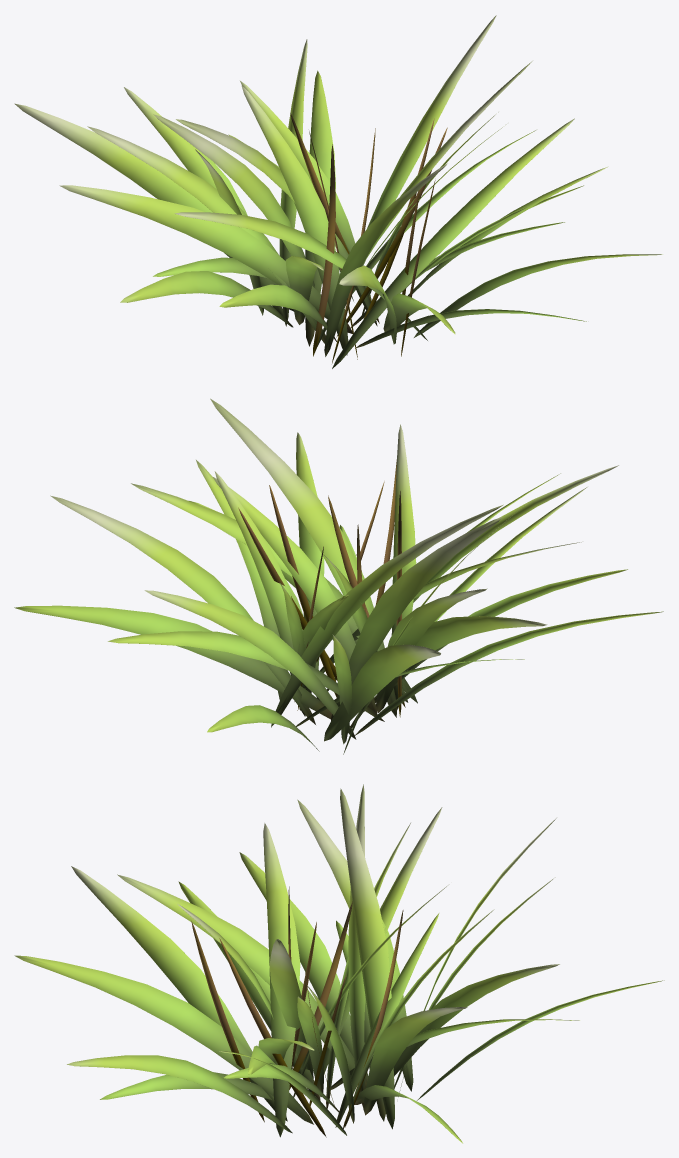
File: osoka-aloesowata-12.obj
The picture shows the model from 3 angles, top to bottom: view 1: azimuth 30°, elevation 25°; view 2: azimuth 150°, elevation 25°; view 3: azimuth 270°, elevation 25°; orthographic projection. The views are drawn at different scales.
Visible parts, largest first — view 1: Stratiotes-aloides1.007; view 2: Stratiotes-aloides1.007; view 3: Stratiotes-aloides1.007.
Part boxes in pixels (x1,y1,x2,y2): Stratiotes-aloides1.007: [14, 15, 662, 368]; Stratiotes-aloides1.007: [14, 398, 663, 754]; Stratiotes-aloides1.007: [14, 784, 664, 1143].
Size of the model in its own units: 0.3211 by 0.1488 by 0.351.
1 material, 1 textured.
